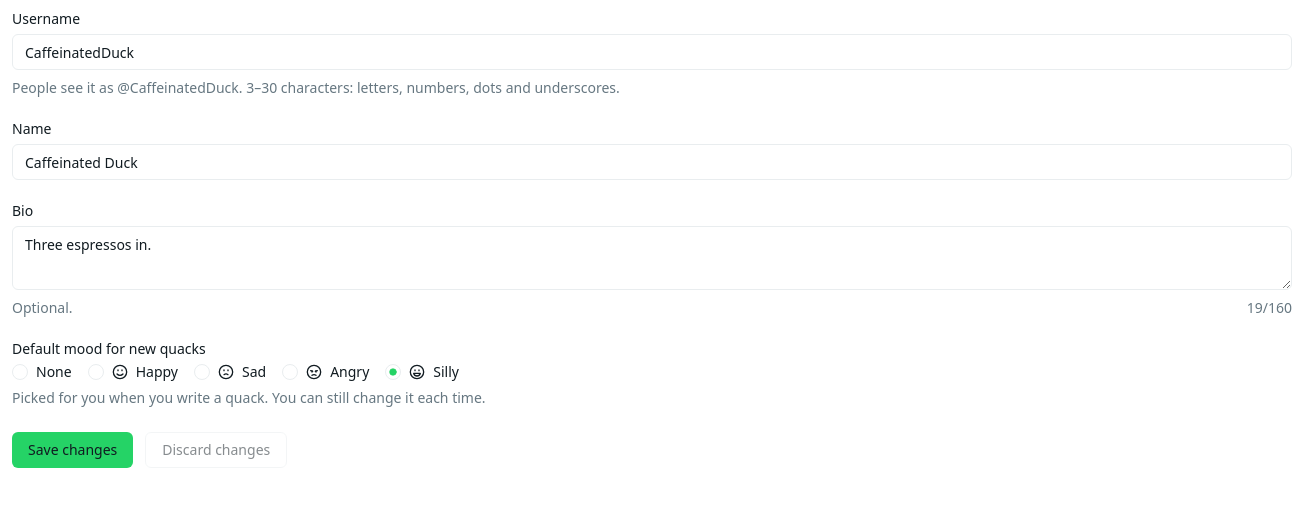
Test: ProfileForm › rejects the username ab without saving
The width and height of the screenshot is (1304, 513).
Replace the text in the field labelled "Username" with "ab": (652, 52) [12,34,1292,70]
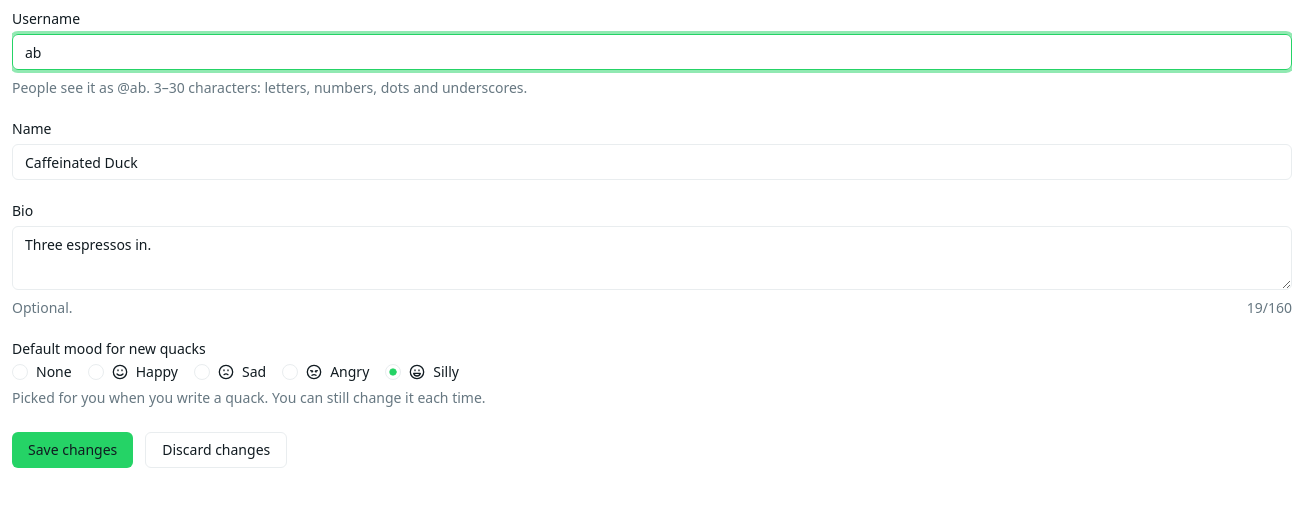
Click the button "Save changes": click(73, 450) [12,432,133,468]
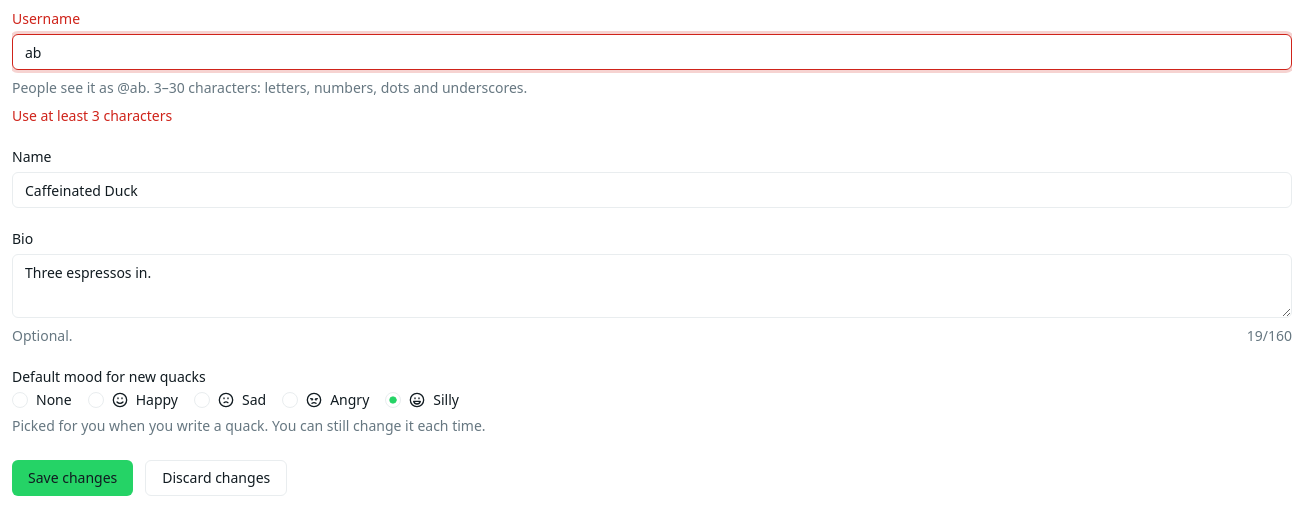
Check: the text "Use at least 3 characters" is shown, box [12,106,172,125]
